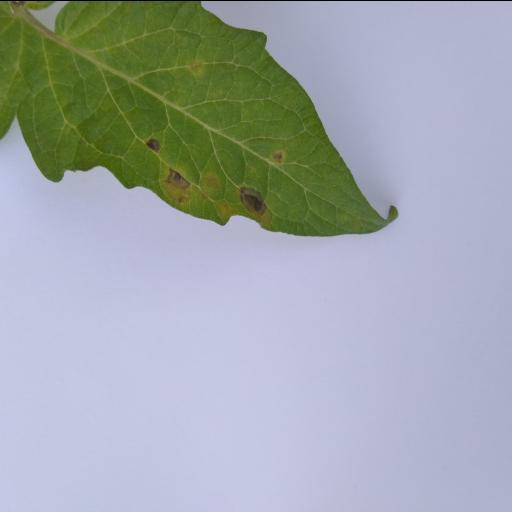Early Blight: (0, 0, 402, 240)
